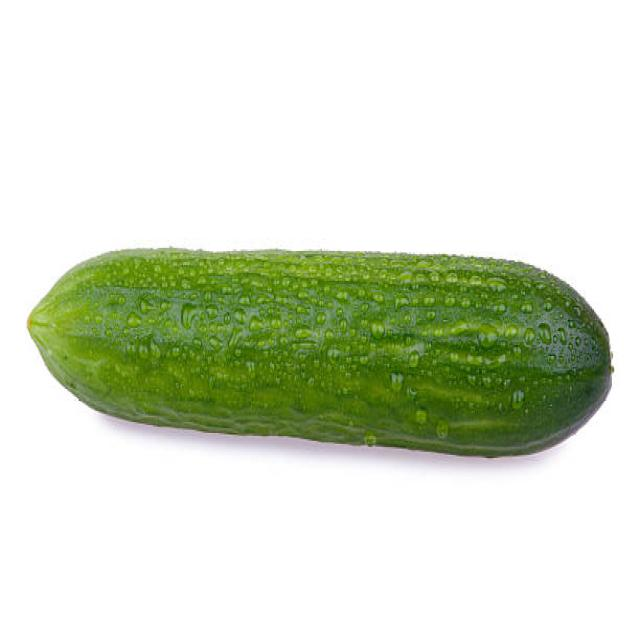cucumber: (27, 245, 610, 455)
